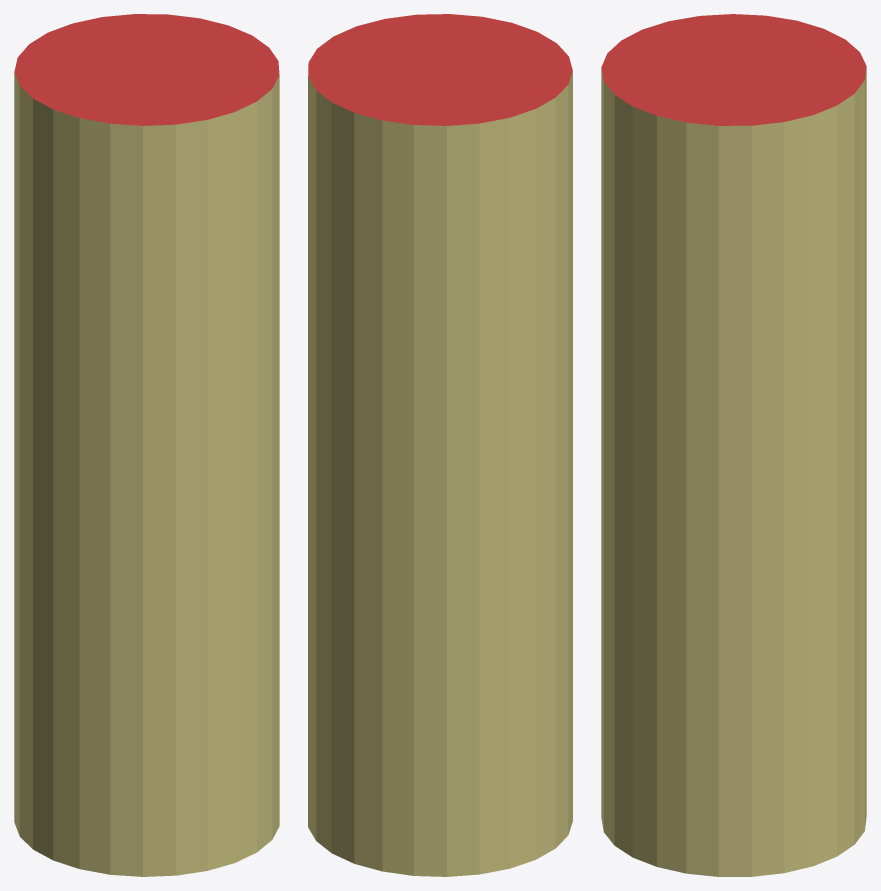
3 renders of one model, left to right at view 1: azimuth 30°, elevation 25°; view 2: azimuth 150°, elevation 25°; view 3: azimuth 270°, elevation 25°, orthographic.
Size of the model in its own units: 2.82 by 2.82 by 8.83.
